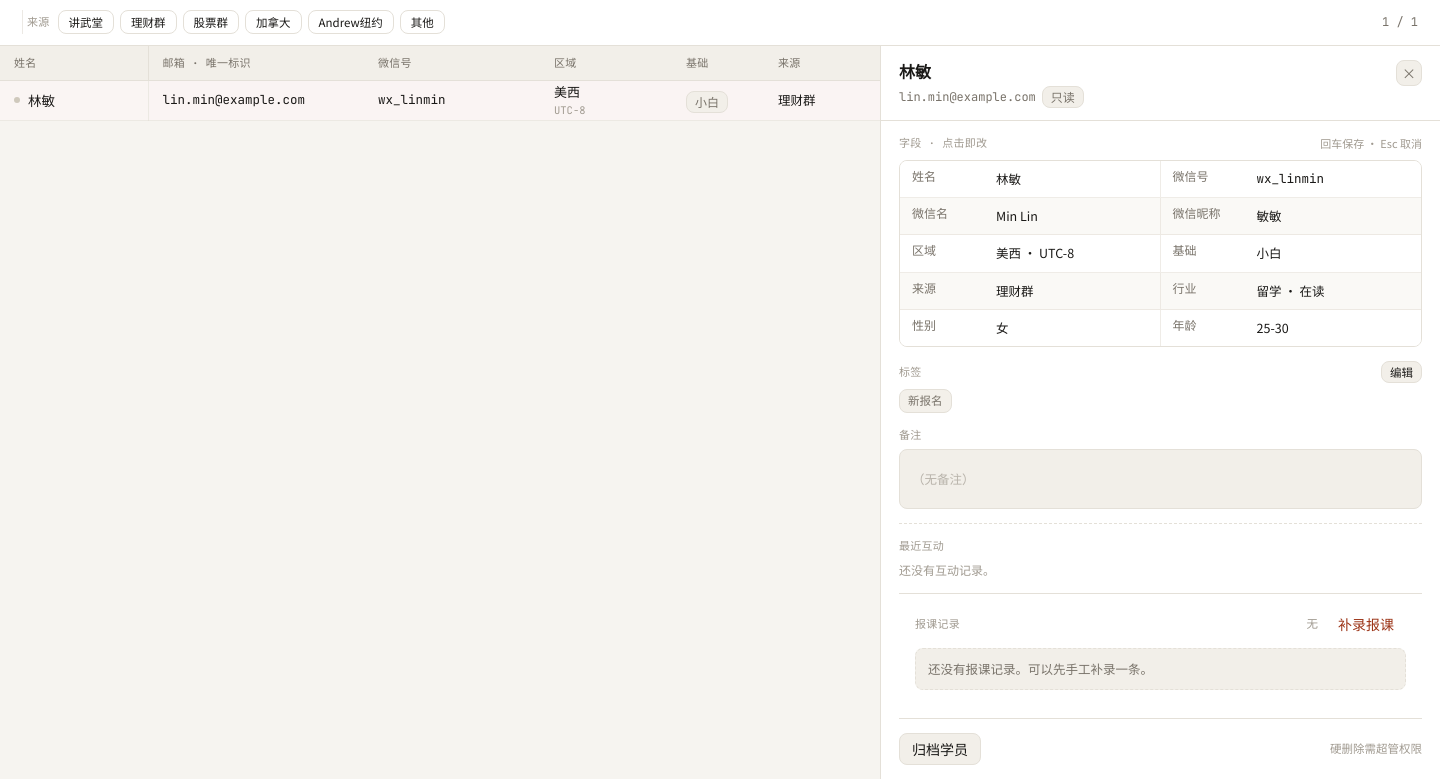
Test: writes that are not plain text fields › reports a failed archive rather than just re-enabling the button
(page scrolled)
Click the button "归档学员" at (940, 749), box [899, 733, 981, 765]
(page scrolled)
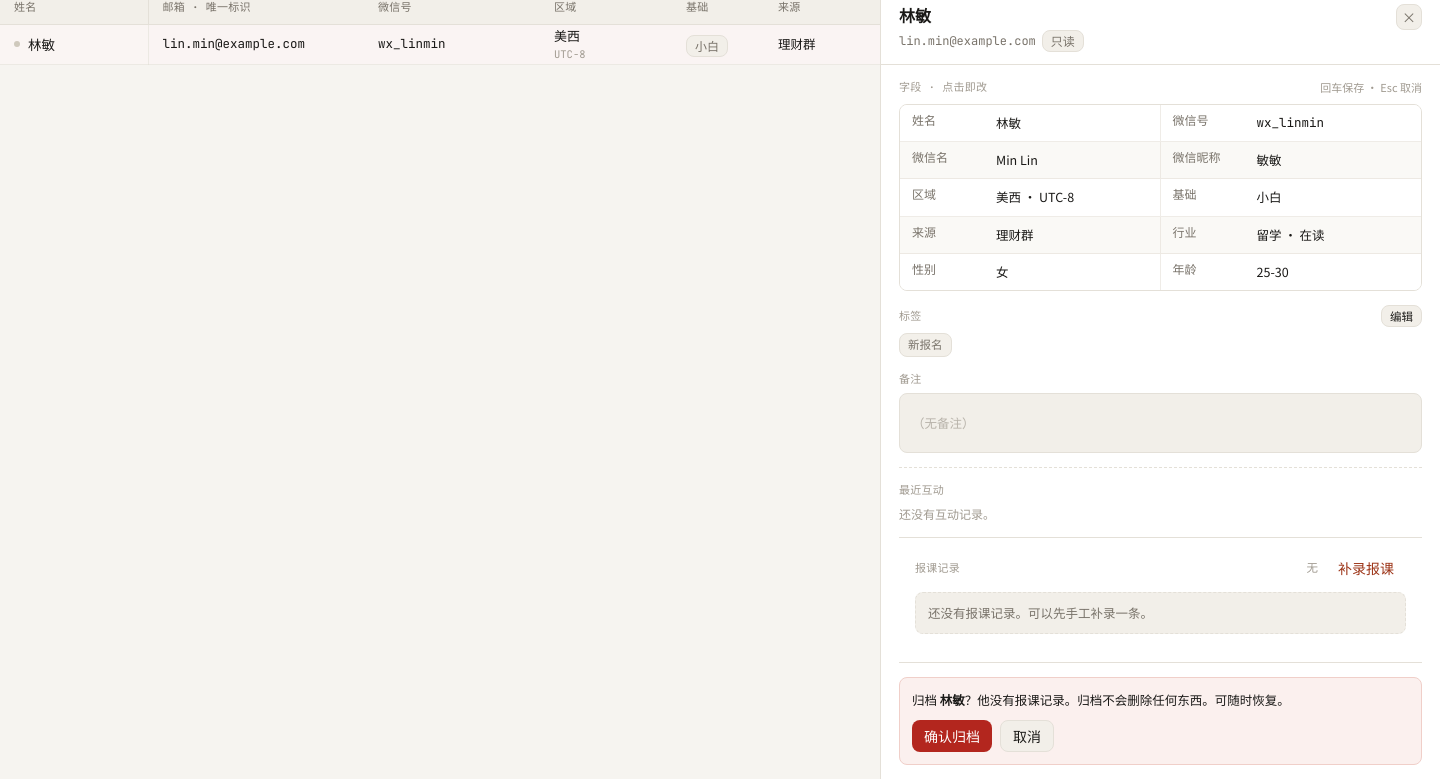
Click the button "确认归档" at (952, 736), box [912, 720, 992, 752]
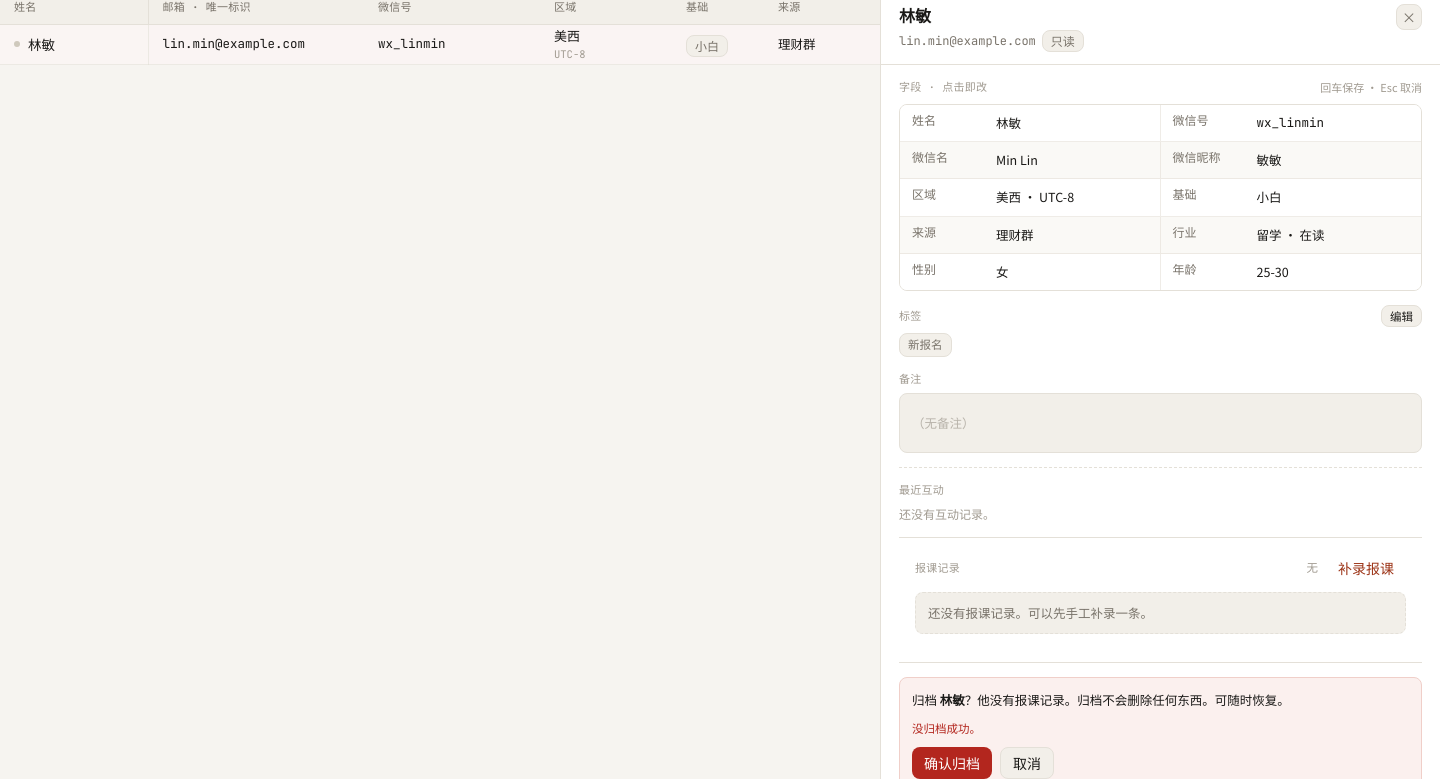
Result: the button "确认归档" is enabled at [912, 747, 992, 778]
Result: the text "没归档成功。" is shown at [912, 720, 981, 736]
